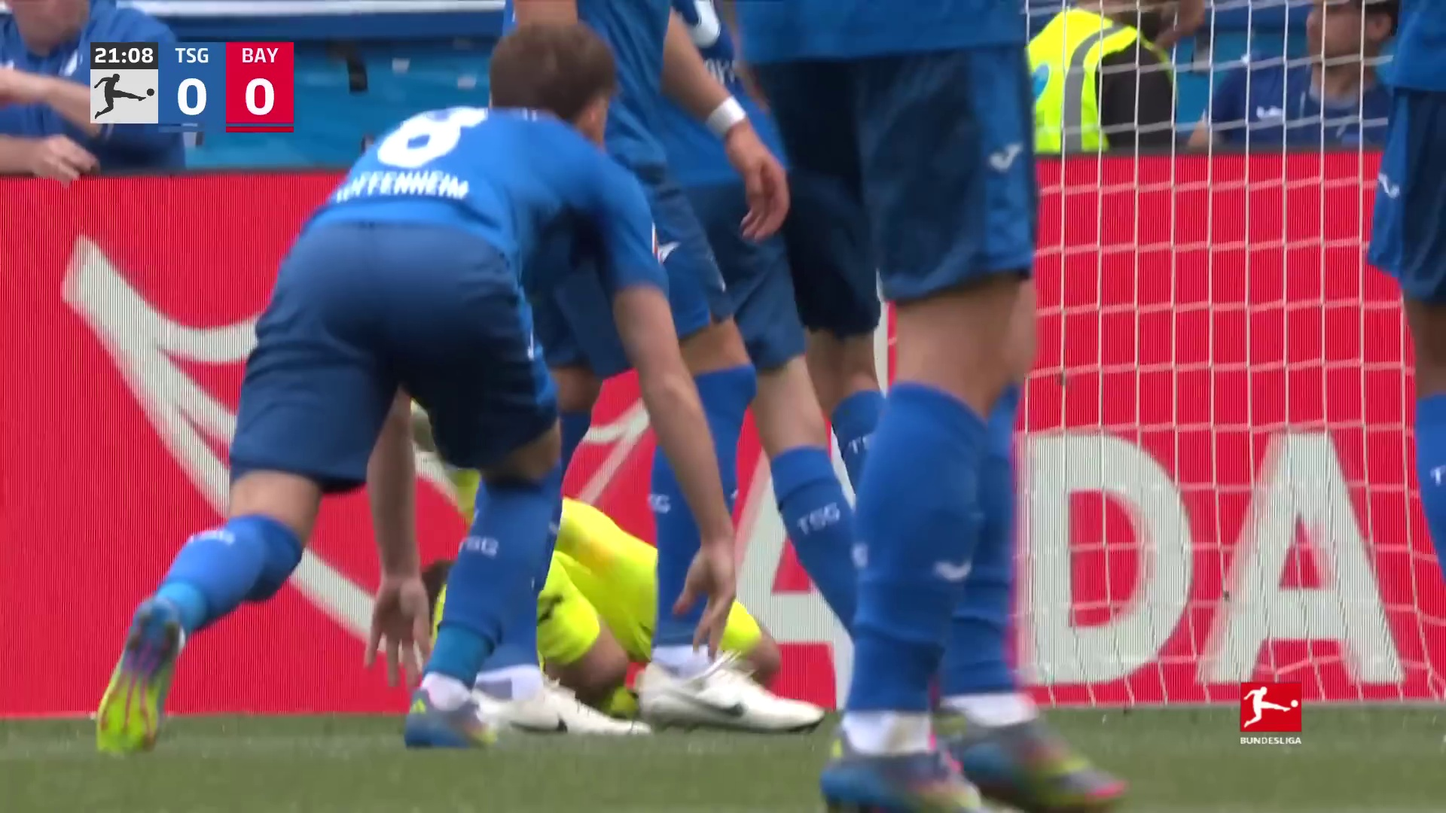player: (80, 16, 728, 750)
